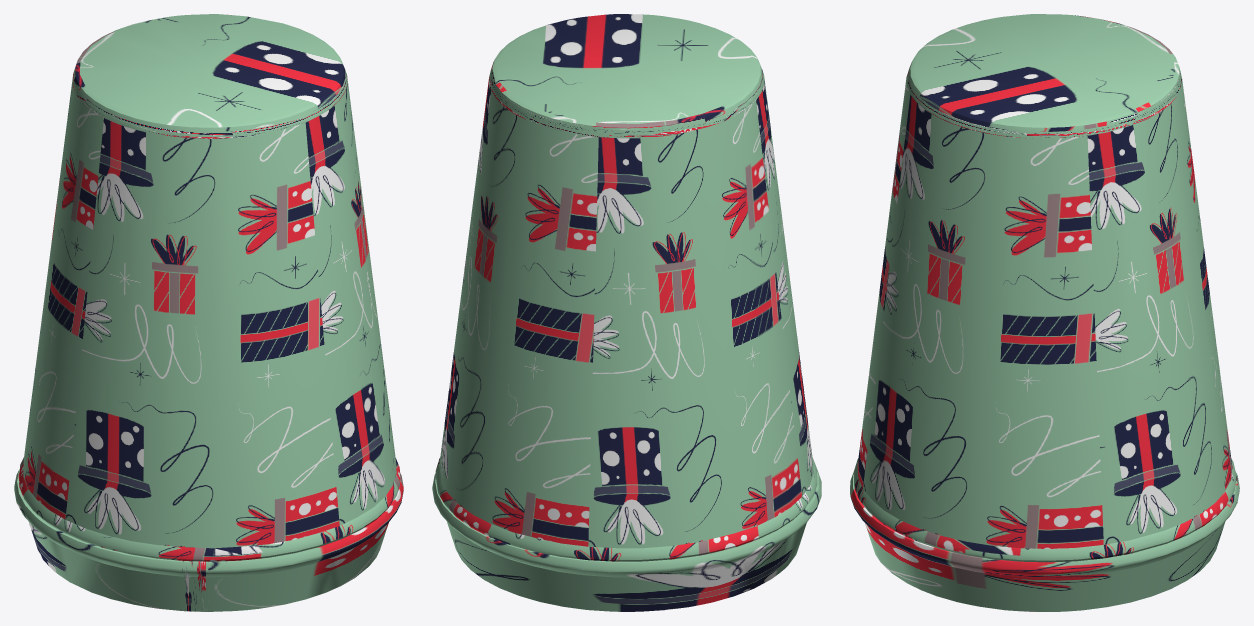
Rendered from Wrapped 1.fbx.
3 views of the same model, side by side, from view 1: azimuth 30°, elevation 25°; view 2: azimuth 150°, elevation 25°; view 3: azimuth 270°, elevation 25° (orthographic).
Parts seen in each view (by area): view 1: coffee_cup.001; view 2: coffee_cup.001; view 3: coffee_cup.001.
Boxes of the visible parts, bbox=[...] form: coffee_cup.001: bbox=[14, 14, 403, 611]; coffee_cup.001: bbox=[432, 14, 821, 611]; coffee_cup.001: bbox=[850, 14, 1239, 611].
Bounding box in the file's own units: 51.67 × 69.05 × 51.67.
Materials: 1 (1 with a texture image).
